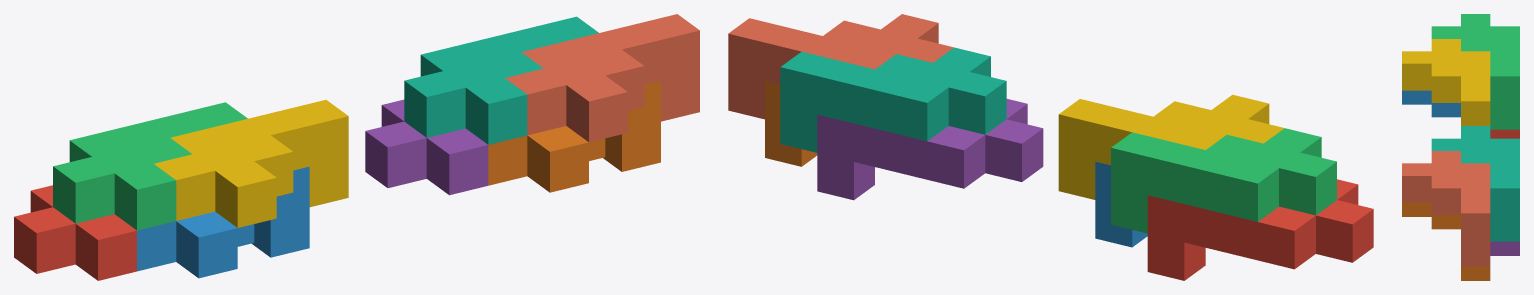
Rendered from tiling.obj.
The picture shows the model from 3 angles, left to right: view 1: azimuth 30°, elevation 25°; view 2: azimuth 150°, elevation 25°; view 3: azimuth 270°, elevation 25°; orthographic projection. The views are drawn at different scales.
Parts seen in each view (by area): view 1: copy_1_domain_4, copy_1_domain_8, copy_1_domain_3, copy_1_domain_7, copy_1_domain_2, copy_1_domain_6, copy_1_domain_5, copy_1_domain_1; view 2: copy_1_domain_7, copy_1_domain_3, copy_1_domain_1, copy_1_domain_5, copy_1_domain_4, copy_1_domain_8, copy_1_domain_2, copy_1_domain_6; view 3: copy_1_domain_8, copy_1_domain_4, copy_1_domain_3, copy_1_domain_7, copy_1_domain_6, copy_1_domain_2, copy_1_domain_5, copy_1_domain_1.
Part boxes in pixels (left/top/right/bottom): copy_1_domain_4: left=154, top=100, right=348, bottom=227; copy_1_domain_8: left=505, top=14, right=699, bottom=142; copy_1_domain_3: left=53, top=102, right=247, bottom=230; copy_1_domain_7: left=404, top=16, right=598, bottom=144; copy_1_domain_2: left=137, top=166, right=309, bottom=278; copy_1_domain_6: left=488, top=81, right=660, bottom=192; copy_1_domain_5: left=365, top=99, right=488, bottom=195; copy_1_domain_1: left=14, top=185, right=136, bottom=280; copy_1_domain_7: left=780, top=47, right=1006, bottom=152; copy_1_domain_3: left=1111, top=128, right=1336, bottom=233; copy_1_domain_1: left=1147, top=179, right=1373, bottom=280; copy_1_domain_5: left=817, top=99, right=1043, bottom=200; copy_1_domain_4: left=1058, top=94, right=1284, bottom=199; copy_1_domain_8: left=728, top=14, right=953, bottom=119; copy_1_domain_2: left=1095, top=161, right=1147, bottom=247; copy_1_domain_6: left=765, top=81, right=817, bottom=166; copy_1_domain_8: left=1402, top=151, right=1490, bottom=266; copy_1_domain_4: left=1402, top=39, right=1490, bottom=125; copy_1_domain_3: left=1431, top=14, right=1519, bottom=129; copy_1_domain_7: left=1431, top=126, right=1519, bottom=241; copy_1_domain_6: left=1402, top=202, right=1490, bottom=280; copy_1_domain_2: left=1402, top=90, right=1460, bottom=117; copy_1_domain_5: left=1490, top=241, right=1519, bottom=255; copy_1_domain_1: left=1490, top=129, right=1519, bottom=138.
Bounding box in the file's own units: 17 × 3 × 4.
